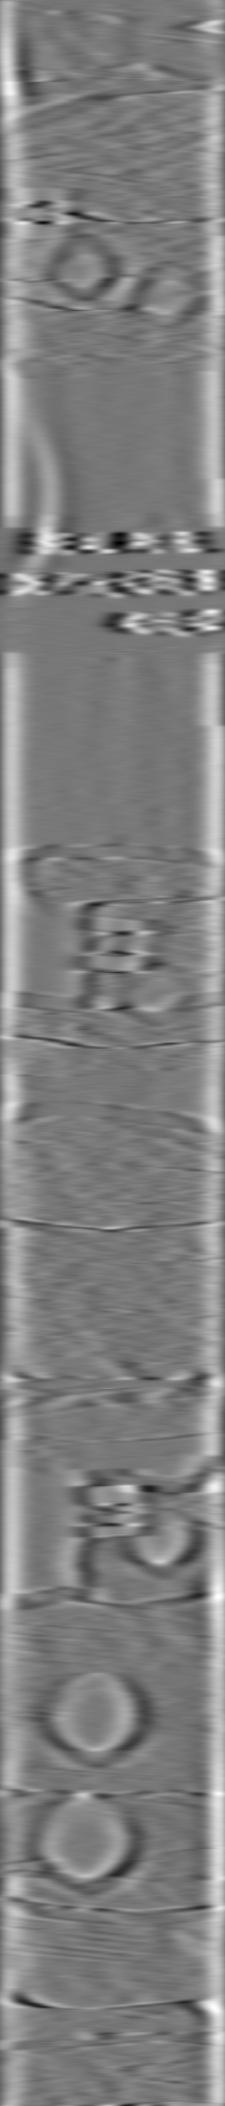hplug: (42, 227, 126, 308), (117, 951, 198, 1029), (122, 1503, 196, 1579), (126, 261, 204, 332)
scal: (33, 1788, 143, 1899), (42, 1664, 149, 1773)
vplug: (9, 1438, 98, 1612), (13, 886, 102, 1023)
